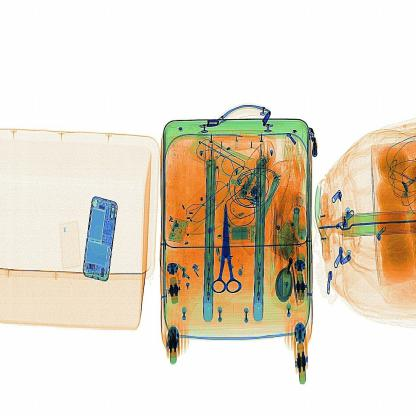gun: (207, 198, 248, 312)
